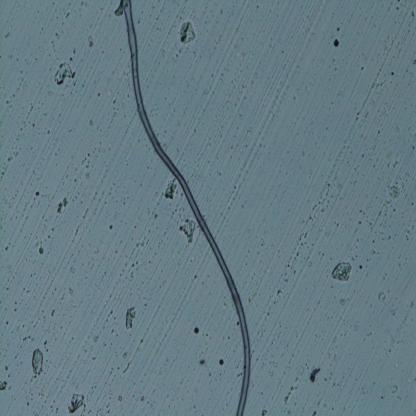Background material: (52, 59, 78, 84), (27, 347, 46, 380), (331, 258, 355, 283), (176, 21, 199, 44), (123, 301, 138, 332), (182, 218, 198, 247), (64, 391, 86, 412), (166, 179, 182, 206), (387, 180, 402, 203), (284, 381, 296, 407), (308, 365, 322, 385), (56, 200, 70, 213), (1, 160, 10, 178), (372, 73, 380, 89), (378, 290, 387, 304), (0, 378, 8, 393), (364, 108, 372, 123), (122, 361, 132, 373), (169, 208, 178, 219), (36, 241, 43, 255), (28, 102, 34, 118), (22, 336, 34, 344), (107, 88, 115, 99), (83, 206, 89, 220), (393, 158, 400, 170), (128, 270, 135, 282), (68, 285, 74, 298), (132, 244, 139, 255), (392, 383, 399, 394), (192, 325, 200, 334), (259, 408, 268, 416), (87, 36, 93, 48), (276, 287, 283, 297), (23, 200, 29, 211), (356, 110, 362, 121), (74, 225, 80, 236), (105, 401, 110, 414), (365, 331, 373, 339), (30, 374, 38, 382), (381, 199, 388, 208), (334, 38, 340, 48), (136, 15, 142, 25), (140, 236, 146, 246), (109, 186, 115, 196), (113, 105, 118, 117), (80, 156, 87, 164), (95, 90, 102, 98), (312, 204, 319, 212), (198, 358, 205, 366), (83, 1, 90, 9), (34, 188, 41, 196), (311, 408, 318, 416), (283, 260, 290, 268), (61, 290, 66, 301), (158, 365, 163, 376), (247, 125, 253, 134), (5, 31, 11, 40), (410, 300, 416, 309), (96, 407, 102, 416), (91, 383, 97, 392), (68, 264, 74, 273), (109, 307, 114, 317), (240, 84, 245, 94), (13, 150, 20, 157), (85, 172, 91, 180), (71, 46, 77, 54), (4, 365, 10, 373), (38, 392, 44, 400), (14, 352, 20, 360), (284, 276, 290, 284), (122, 350, 128, 358), (122, 69, 128, 77), (380, 79, 386, 87), (178, 47, 184, 55), (378, 206, 383, 215), (50, 308, 55, 317), (162, 48, 166, 59), (336, 25, 342, 32), (354, 325, 360, 332), (320, 198, 326, 205), (47, 128, 52, 136), (50, 40, 55, 48), (8, 155, 13, 163), (108, 223, 113, 231), (46, 232, 51, 240), (21, 118, 26, 126), (219, 358, 224, 366), (301, 148, 305, 158), (141, 394, 146, 402), (90, 356, 98, 361), (371, 250, 379, 255), (193, 272, 198, 280), (68, 54, 73, 62), (238, 112, 243, 120), (107, 372, 112, 380), (346, 161, 352, 167), (360, 153, 366, 159), (386, 34, 392, 40), (111, 70, 117, 76), (366, 256, 372, 262), (64, 12, 70, 18), (398, 395, 403, 402), (172, 21, 177, 28), (194, 386, 199, 393), (309, 213, 314, 220), (5, 98, 10, 105), (299, 233, 304, 240), (321, 207, 326, 214), (218, 131, 222, 139), (326, 187, 330, 195), (149, 400, 153, 408), (208, 370, 212, 378), (86, 160, 90, 168), (304, 230, 308, 238), (410, 10, 414, 18), (376, 129, 380, 137), (168, 27, 172, 35), (390, 310, 395, 316), (397, 262, 402, 268), (404, 68, 410, 73), (4, 286, 9, 292), (74, 384, 79, 390), (379, 395, 385, 400), (295, 251, 300, 257), (88, 119, 93, 125), (112, 99, 117, 105), (56, 32, 61, 38), (110, 328, 115, 334), (340, 299, 345, 305), (51, 226, 55, 233), (391, 70, 395, 77), (154, 211, 158, 218), (307, 261, 311, 268), (412, 58, 416, 65), (42, 339, 46, 346), (358, 208, 363, 213), (155, 15, 160, 20), (260, 242, 265, 247), (317, 200, 322, 205), (84, 348, 88, 354), (233, 184, 237, 190), (408, 230, 412, 236), (372, 238, 376, 244), (56, 406, 59, 414), (5, 245, 9, 251), (406, 234, 410, 240), (201, 280, 205, 286), (42, 314, 46, 320), (205, 332, 209, 338), (386, 162, 390, 168), (163, 231, 167, 237), (404, 193, 407, 200), (158, 239, 161, 246), (220, 8, 223, 15), (366, 216, 369, 223), (383, 107, 386, 114), (360, 132, 363, 139), (412, 224, 415, 231), (372, 163, 376, 168), (218, 171, 222, 176), (392, 207, 396, 212), (178, 213, 182, 218), (19, 127, 23, 132), (8, 241, 12, 246), (23, 82, 28, 86), (108, 146, 112, 151), (336, 221, 340, 226), (156, 26, 160, 31), (81, 57, 85, 62), (230, 79, 234, 84), (80, 411, 84, 416), (107, 313, 111, 318), (411, 145, 415, 150), (87, 410, 92, 414), (236, 74, 240, 79), (327, 182, 331, 187), (73, 82, 77, 87), (80, 1, 84, 6), (51, 1, 55, 6), (74, 194, 78, 199), (48, 91, 52, 96), (131, 262, 135, 267), (140, 182, 144, 187), (388, 105, 391, 111), (259, 142, 262, 148), (132, 392, 135, 398), (230, 144, 233, 150), (398, 254, 401, 260), (294, 96, 297, 102), (227, 334, 230, 340), (118, 394, 121, 400), (61, 20, 64, 26), (93, 146, 96, 152), (20, 68, 23, 74), (6, 320, 9, 326), (387, 289, 390, 295), (27, 400, 30, 406), (32, 123, 35, 129), (166, 356, 169, 362), (354, 228, 358, 232), (359, 265, 363, 269), (208, 172, 212, 176), (254, 74, 258, 78), (220, 72, 224, 76), (34, 57, 38, 61), (361, 66, 365, 70), (140, 339, 144, 343), (70, 336, 74, 340), (353, 166, 357, 170), (326, 198, 330, 202), (374, 196, 378, 200), (330, 194, 334, 198), (143, 302, 147, 306), (387, 235, 391, 239), (12, 94, 16, 98), (292, 270, 296, 274), (133, 224, 137, 228), (86, 152, 90, 156), (244, 262, 248, 266), (384, 272, 388, 276), (359, 219, 362, 224), (394, 232, 397, 237), (372, 101, 375, 106), (411, 201, 414, 206), (326, 203, 329, 208), (388, 6, 391, 11), (247, 228, 250, 233), (32, 169, 35, 174), (53, 326, 56, 331), (241, 204, 244, 209), (293, 256, 296, 261), (99, 7, 104, 10), (222, 335, 225, 340), (108, 13, 111, 18), (211, 90, 214, 95), (26, 290, 31, 293), (176, 53, 179, 58), (242, 51, 245, 56), (29, 389, 32, 394), (381, 236, 384, 241), (110, 392, 113, 397), (41, 194, 45, 197), (19, 82, 22, 86), (7, 374, 10, 378), (203, 21, 207, 24), (123, 201, 126, 205), (80, 200, 83, 204), (30, 398, 34, 401), (300, 242, 303, 246), (322, 253, 324, 259), (384, 46, 387, 50), (194, 127, 196, 133), (310, 170, 312, 176), (227, 207, 231, 210), (95, 192, 98, 196), (148, 258, 150, 264), (382, 276, 385, 280), (30, 272, 32, 278), (102, 50, 105, 54), (192, 50, 195, 54), (55, 163, 58, 167), (19, 147, 22, 151), (388, 349, 391, 353), (30, 146, 33, 150), (22, 287, 25, 291), (247, 249, 250, 253), (49, 405, 52, 409), (393, 20, 396, 24), (396, 0, 402, 2), (111, 366, 114, 370), (56, 16, 59, 20), (370, 221, 372, 226), (232, 190, 234, 195), (74, 178, 76, 183), (257, 250, 259, 255), (358, 237, 360, 242), (385, 212, 387, 217), (10, 54, 12, 59), (22, 324, 25, 327), (54, 153, 57, 156), (69, 130, 72, 133), (38, 100, 41, 103), (46, 359, 49, 362), (155, 226, 158, 229), (119, 48, 122, 51), (46, 349, 48, 353), (363, 211, 365, 215), (72, 198, 74, 202), (408, 29, 410, 33), (147, 400, 149, 404), (44, 112, 46, 116), (54, 337, 56, 341), (54, 400, 56, 404), (181, 380, 183, 384), (187, 389, 189, 393), (110, 395, 112, 399), (234, 78, 236, 82), (118, 366, 120, 370), (38, 106, 40, 110), (116, 333, 118, 337), (34, 324, 36, 328), (306, 245, 310, 247), (94, 80, 96, 84), (61, 325, 63, 329), (114, 316, 116, 320), (180, 16, 182, 20), (138, 139, 140, 143), (20, 346, 22, 349), (136, 261, 138, 264), (128, 94, 130, 97), (375, 230, 377, 233), (396, 7, 399, 9), (235, 103, 237, 106), (379, 115, 382, 117), (41, 28, 44, 30), (335, 68, 337, 71), (16, 57, 18, 60), (310, 243, 313, 245), (82, 84, 84, 87), (124, 114, 126, 117), (31, 394, 34, 396), (104, 344, 106, 347), (110, 343, 112, 345), (133, 383, 135, 385), (211, 74, 213, 76), (141, 11, 143, 13), (129, 334, 131, 336), (194, 368, 195, 371), (220, 374, 221, 375)
Microfibre: (118, 1, 252, 416)
